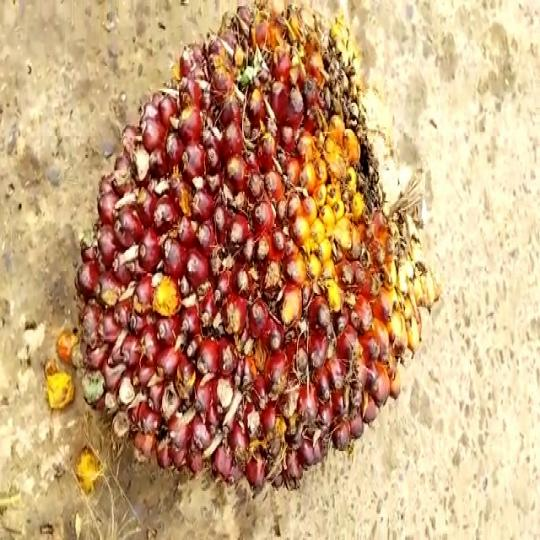kurang masak: (66, 3, 436, 491)
